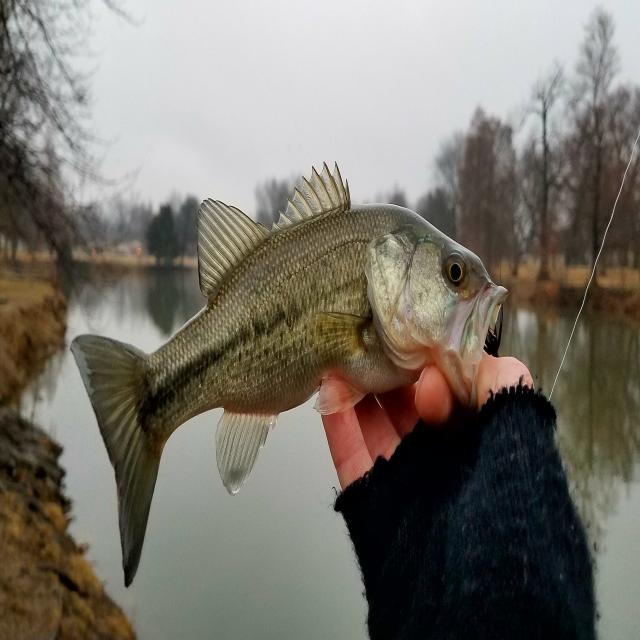Bass - Largemouth: (72, 165, 506, 585)
